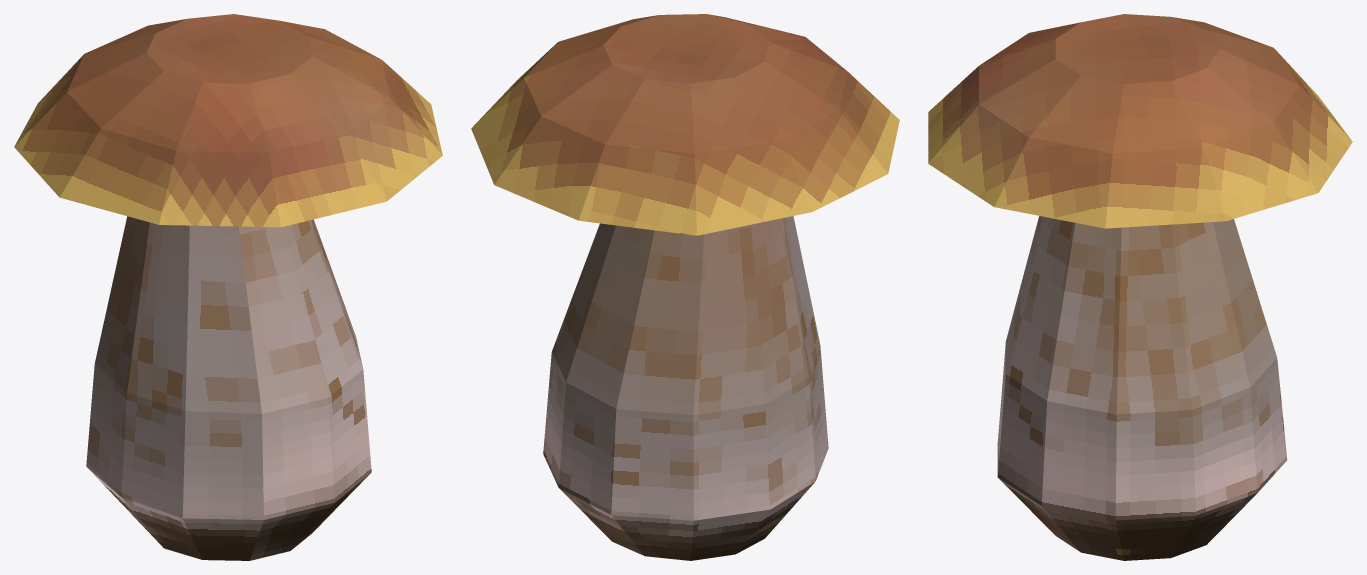
Rendered from bolet_2.FBX.
3 views of the same model, side by side, from view 1: azimuth 30°, elevation 25°; view 2: azimuth 150°, elevation 25°; view 3: azimuth 270°, elevation 25° (orthographic).
Visible parts, largest first — view 1: bolet_2; view 2: bolet_2; view 3: bolet_2.
Boxes of the visible parts, x1,y1,x2,y2 form: bolet_2: (14,14,442,560); bolet_2: (471,14,899,560); bolet_2: (928,14,1352,560).
Size of what is drawn, in the model's own units: 512 by 507 by 628.
